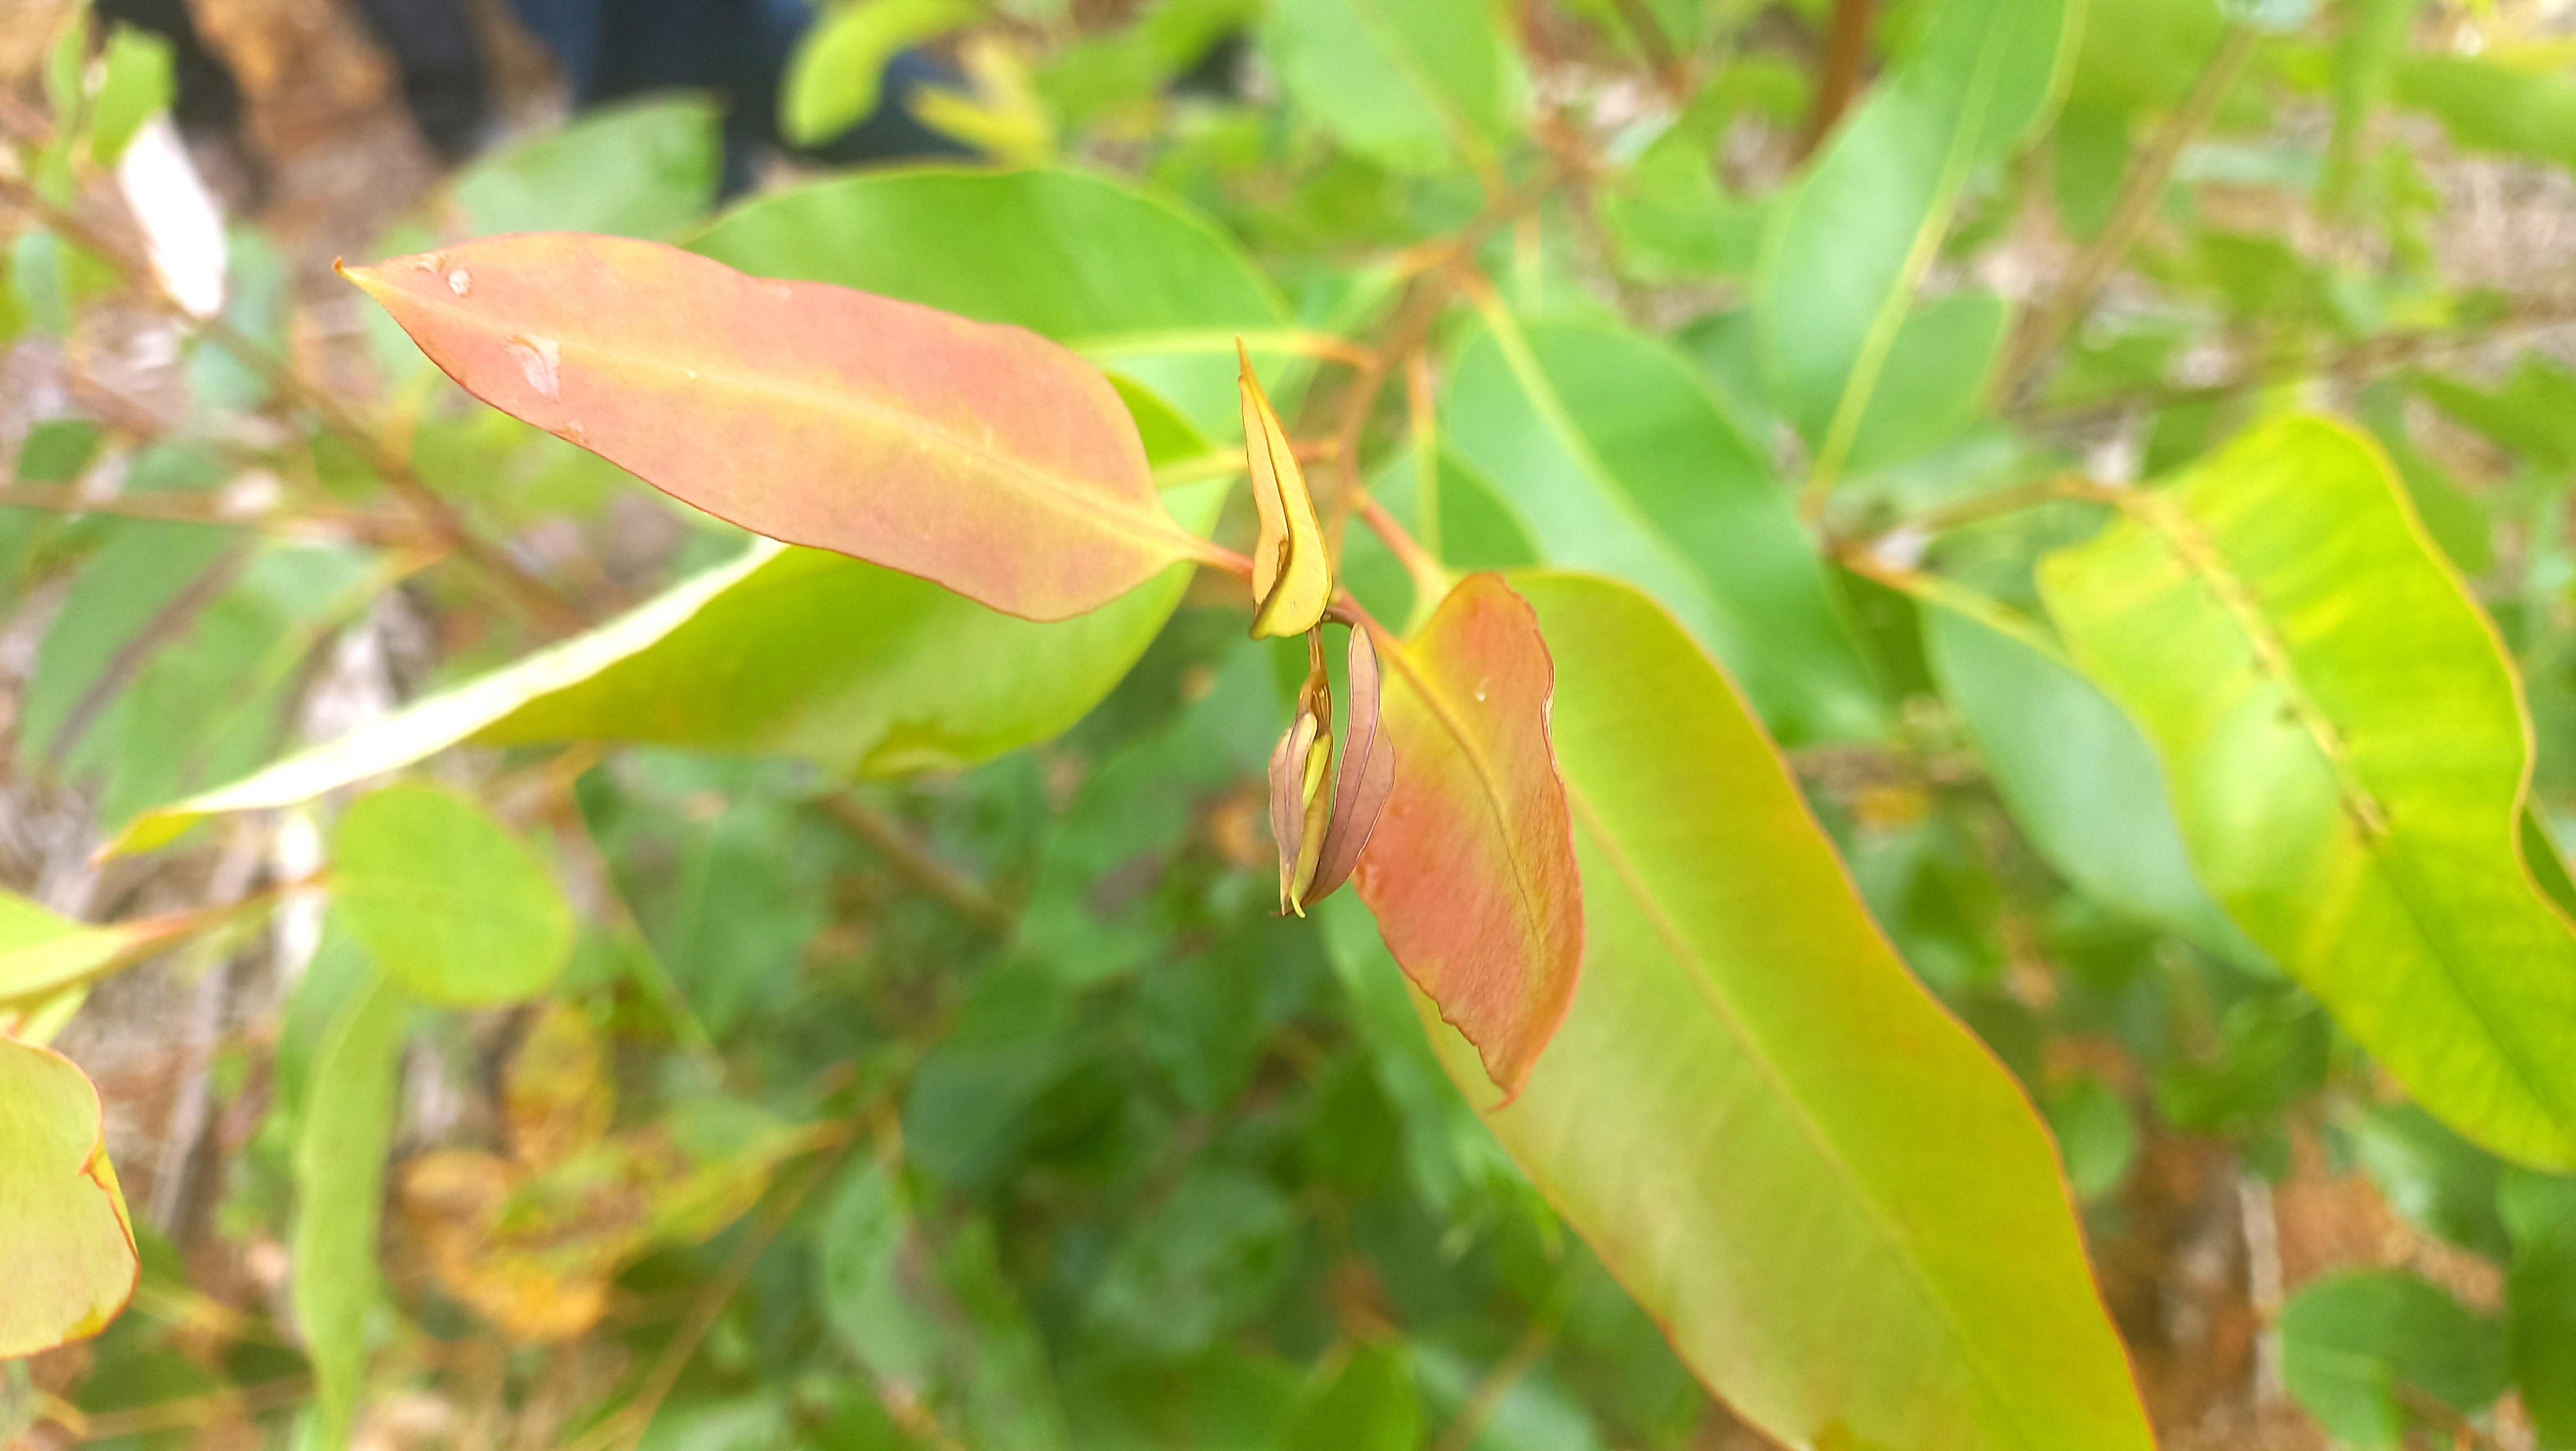Helopeltis-Withered Sprout: (1233, 324, 1332, 626), (1258, 614, 1334, 929)
